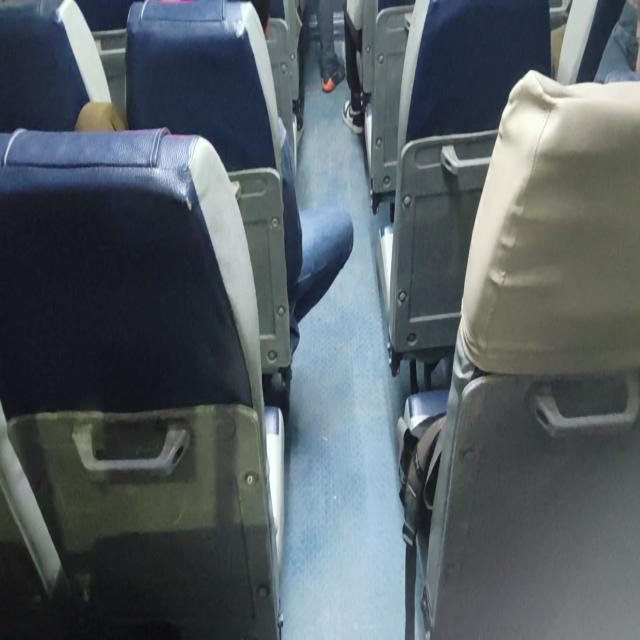person: (606, 0, 640, 112)
